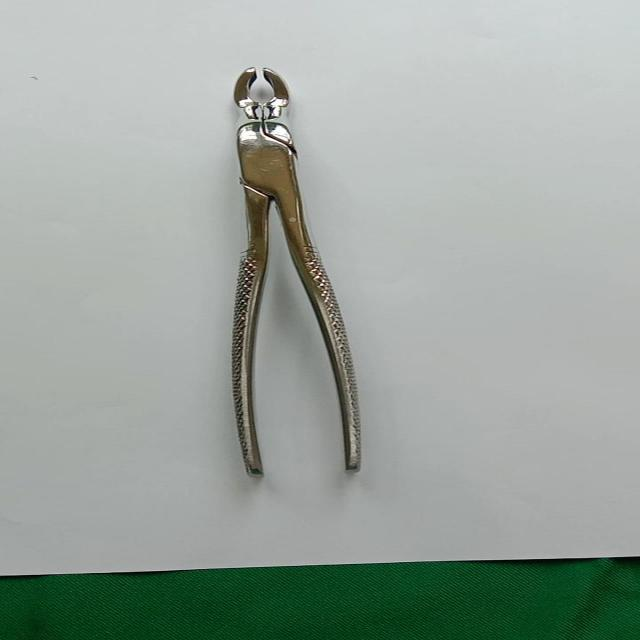BayonetForcep: (216, 55, 374, 483)
